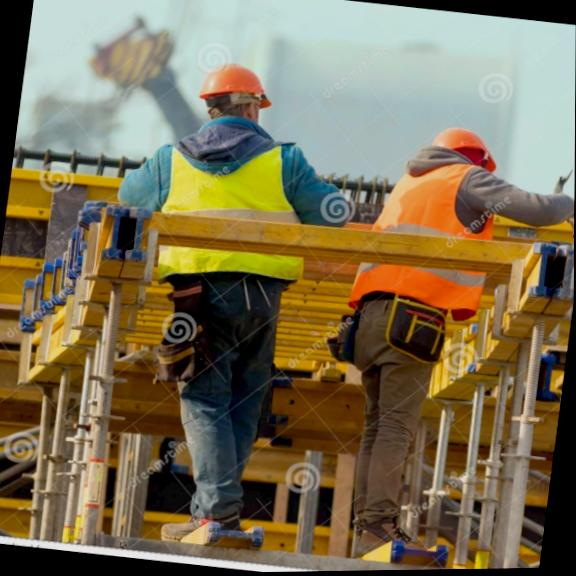safety_vest: (150, 132, 320, 299), (357, 154, 497, 319)
